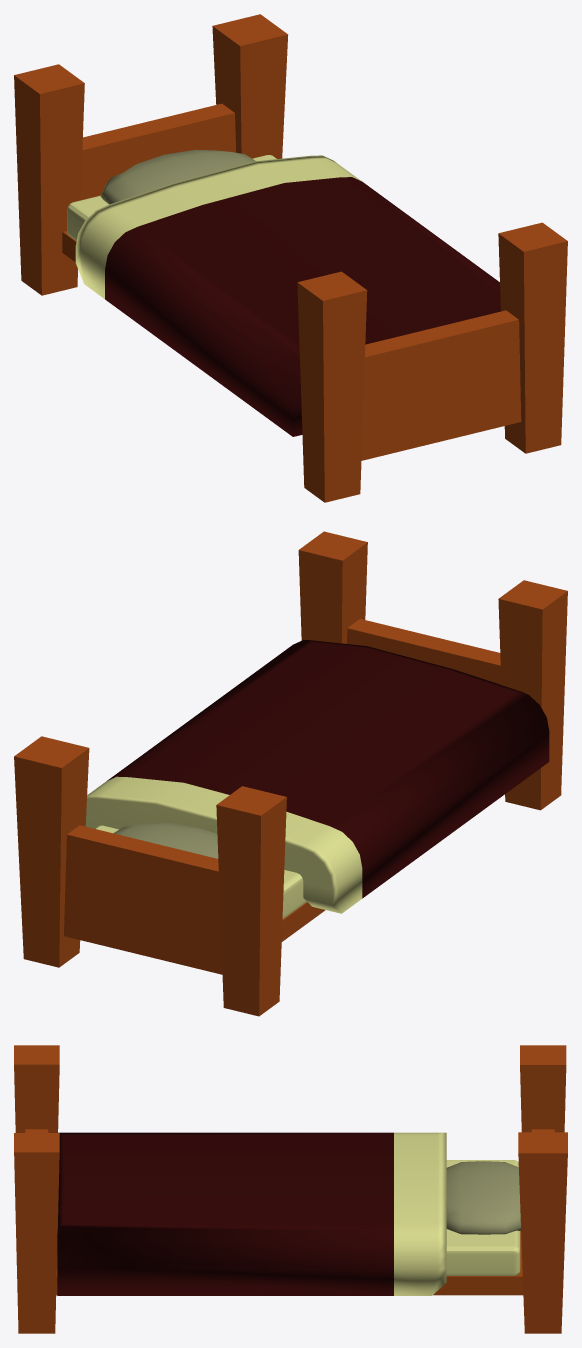
The model's file is Bed.fbx.
The picture shows the model from 3 angles, top to bottom: view 1: azimuth 30°, elevation 25°; view 2: azimuth 150°, elevation 25°; view 3: azimuth 270°, elevation 25°; orthographic projection. The views are drawn at different scales.
Visible parts, largest first — view 1: Bed; view 2: Bed; view 3: Bed.
Part boxes in pixels (x1,y1,x2,y2): Bed: (14,14,567,502); Bed: (14,531,567,1016); Bed: (14,1045,567,1333).
Bounding box in the file's own units: 0.0472 × 0.0345 × 0.0946.
